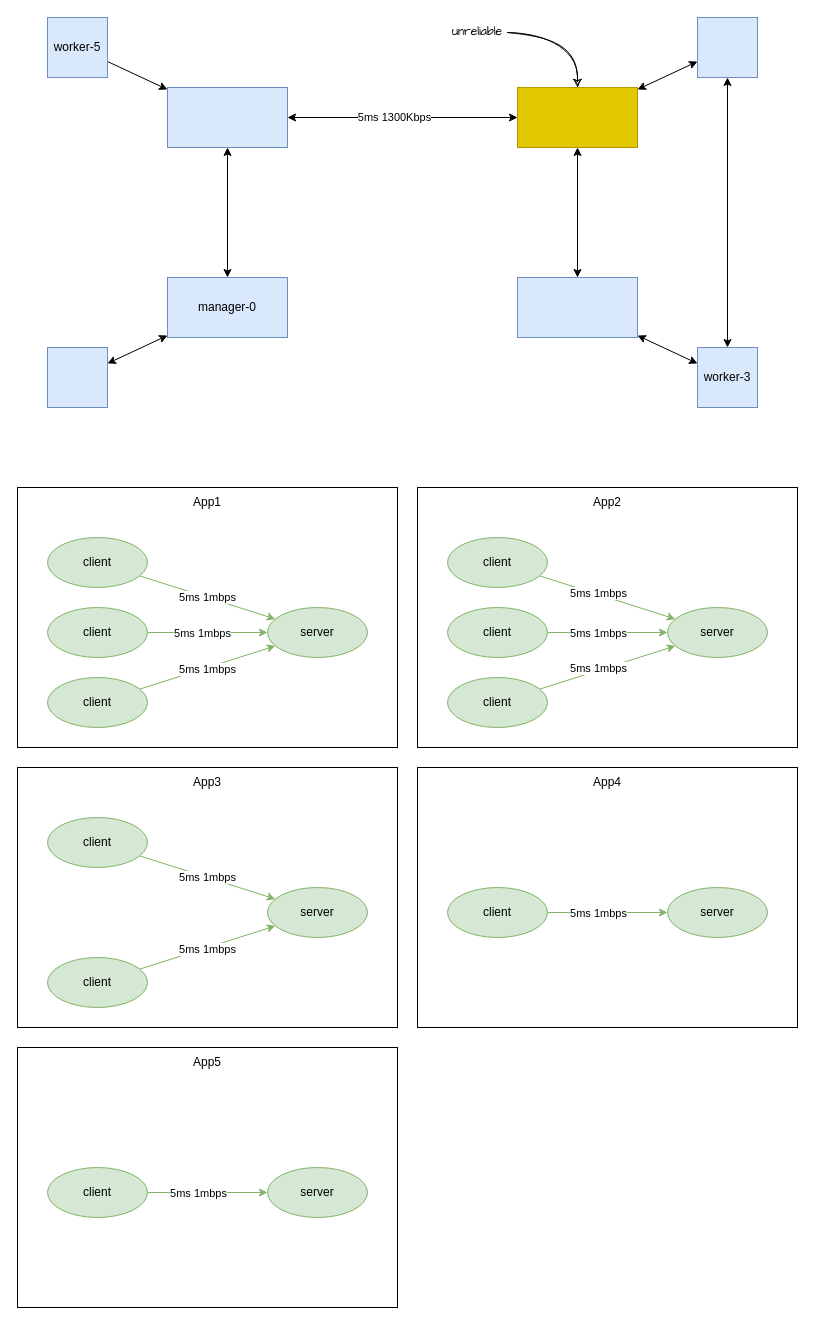
Some shapes in this 815 by 1325 pixel diagram are drawn without their labels. Here are the shapes that lost their labels. From the top down, the box of each, then its label:
(696, 16, 758, 78): worker-4
(166, 86, 288, 148): worker-0
(516, 86, 638, 148): worker-1
(516, 276, 638, 338): worker-2
(46, 346, 108, 408): worker-6
